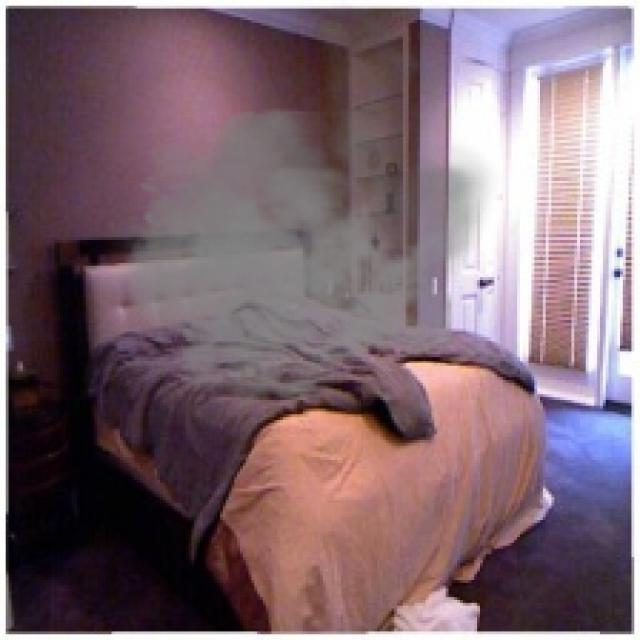Smoke: (97, 0, 501, 415)
